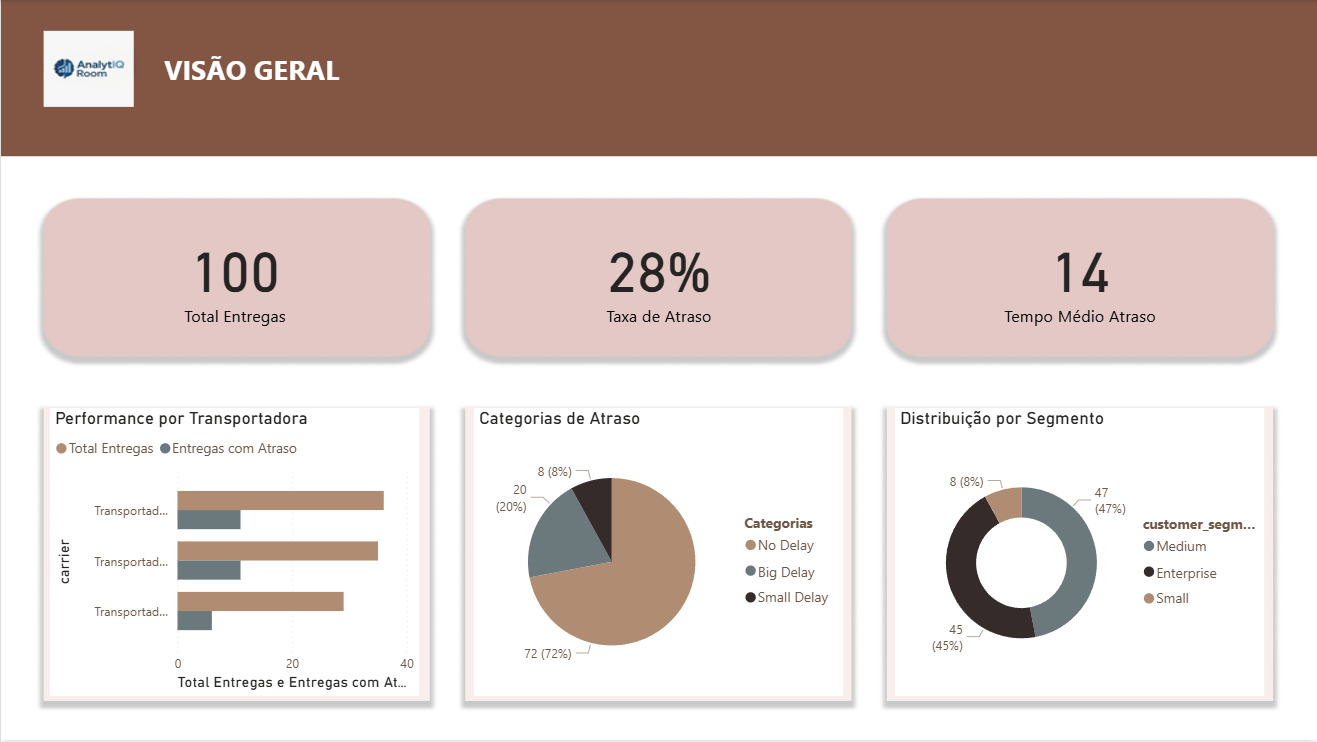

This screenshot's page, from the dashboard's own definition file:
{"tool":"powerbi","page":{"name":"VISÃO GERAL","canvas":[1280,720],"ordinal":0},"visuals":[{"type":"card","fields":{"Values":["fato_entregas.Total Entregas"]},"box":[87.5,188.7,280.1,160.5],"z":0},{"type":"card","fields":{"Values":["fato_entregas.Taxa de Atraso"]},"box":[499.9,187.7,280.1,161.5],"z":1000},{"type":"card","fields":{"Values":["fato_entregas.Tempo Médio Atraso"]},"box":[909.4,188.7,280.1,160.5],"z":2000},{"type":"clusteredBarChart","title":"Performance por Transportadora","fields":{"Category":["dim_transportadoras.carrier"],"Y":["fato_entregas.Total Entregas","fato_entregas.Entregas com Atraso"]},"box":[47.7,396.8,358.9,280.1],"z":3000},{"type":"pieChart","title":"Categorias de Atraso","fields":{"Category":["fato_entregas.delay_category"],"Y":["fato_entregas.Total Entregas"]},"box":[460.1,396.8,358.9,280.1],"z":4000},{"type":"donutChart","title":"Distribuição por Segmento","fields":{"Category":["dim_clientes.customer_segment"],"Y":["fato_entregas.Total Entregas"]},"box":[869.5,396.8,358.9,280.1],"z":5000},{"type":"textbox","box":[153.7,43.8,244.1,98.2],"z":6000}]}

Visuals, with their boxes in screenshot pixels (x1, y1, x2, y2), scaled from the page's 1280x720 canvas onto the 1317x742 screenshot:
card - fato_entregas.Total Entregas: <bbox>90, 194, 378, 360</bbox>
card - fato_entregas.Taxa de Atraso: <bbox>514, 193, 803, 360</bbox>
card - fato_entregas.Tempo Médio Atraso: <bbox>936, 194, 1224, 360</bbox>
"Performance por Transportadora" clusteredBarChart: <bbox>49, 409, 418, 698</bbox>
"Categorias de Atraso" pieChart: <bbox>473, 409, 843, 698</bbox>
"Distribuição por Segmento" donutChart: <bbox>895, 409, 1264, 698</bbox>
textbox: <bbox>158, 45, 409, 146</bbox>
